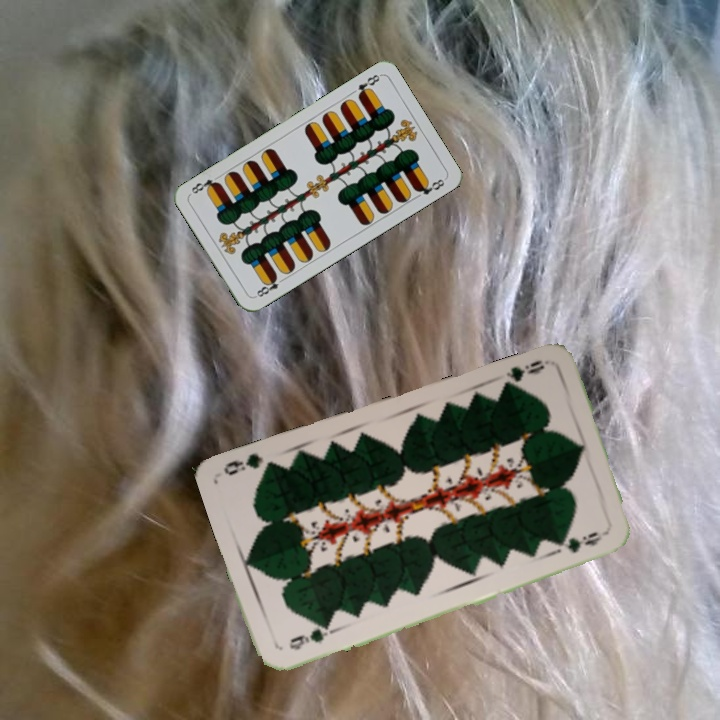E8: (250, 272, 287, 300), (353, 70, 383, 100)
G9: (497, 356, 551, 394), (285, 620, 335, 653)
